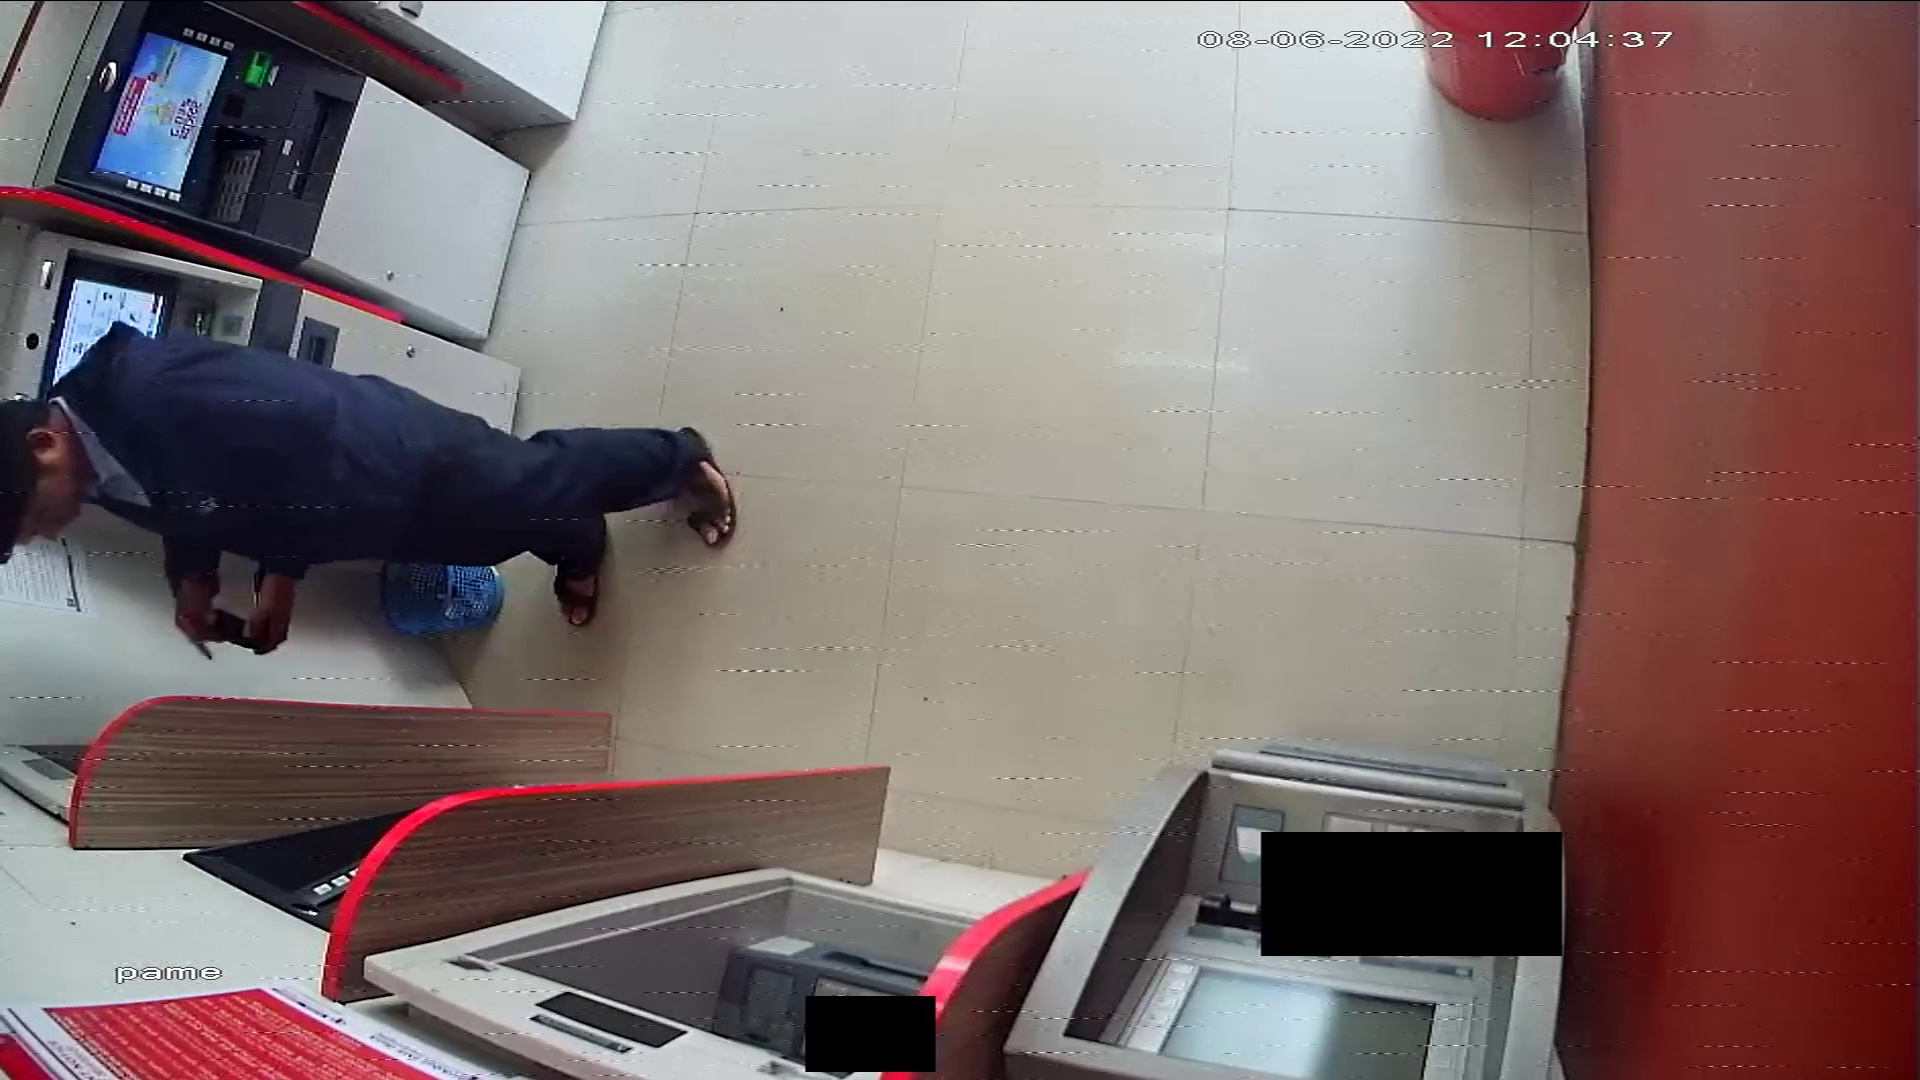person: (1, 325, 738, 663)
